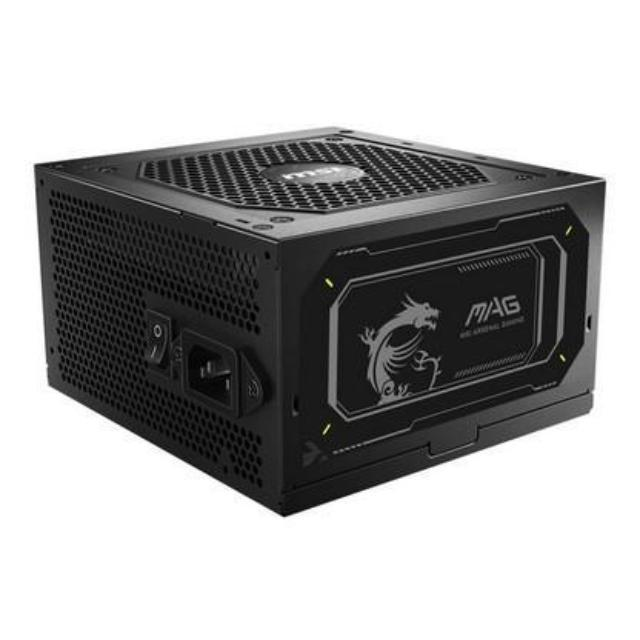PSU: (28, 109, 618, 524)
